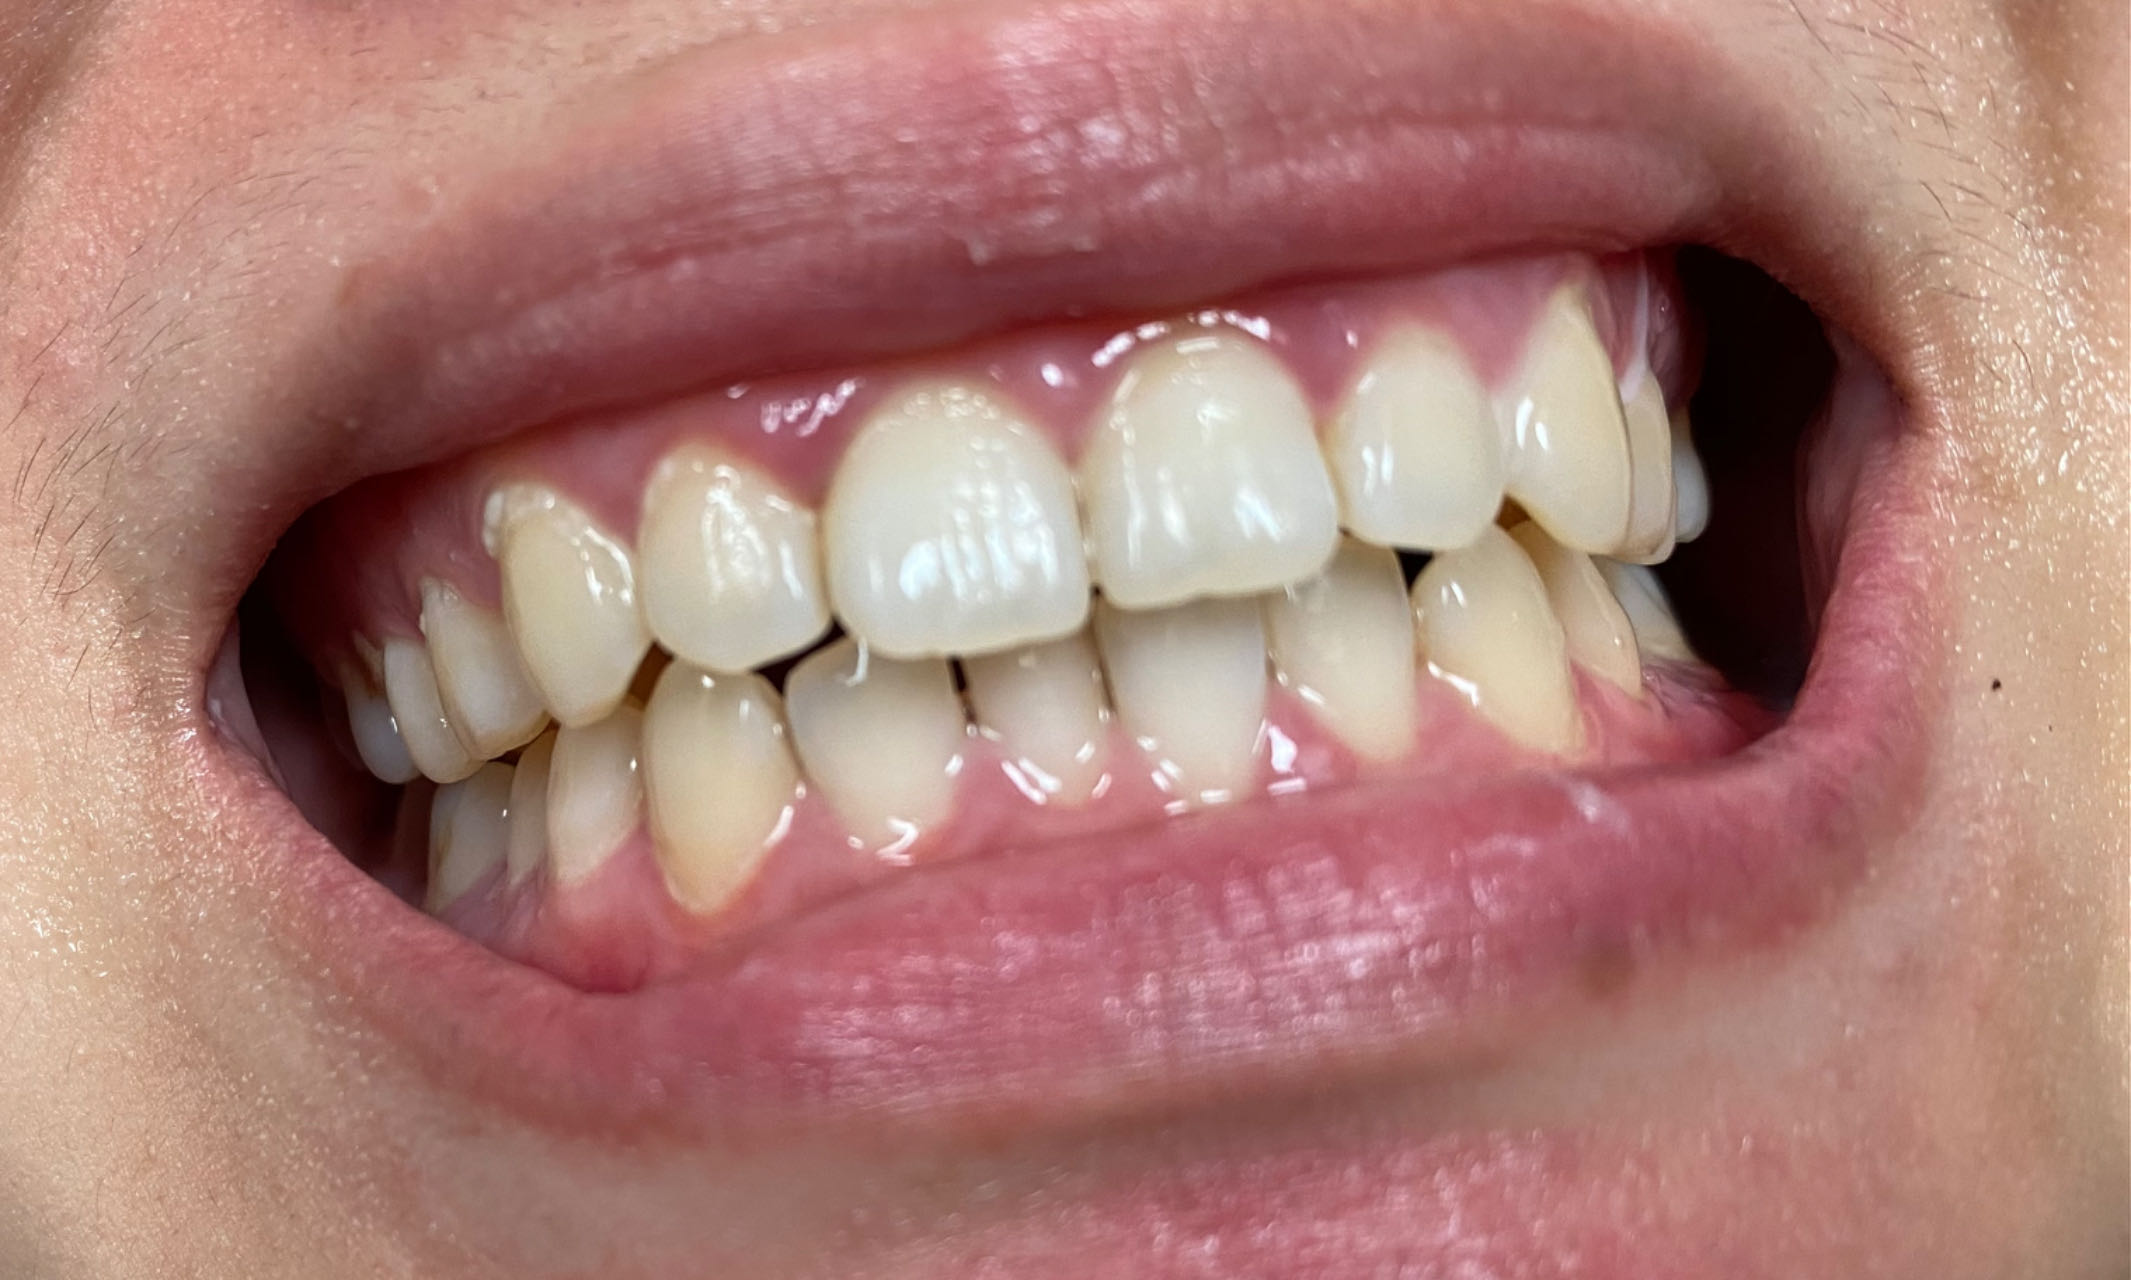teeth: (830, 373, 1088, 651), (1078, 329, 1341, 601), (642, 441, 823, 670), (642, 658, 799, 909), (1333, 321, 1504, 548), (1102, 594, 1276, 796), (792, 642, 968, 837), (1422, 525, 1577, 746), (498, 479, 636, 720), (1266, 531, 1419, 749), (1508, 286, 1630, 545), (965, 638, 1105, 794), (426, 600, 530, 750), (553, 708, 639, 881), (385, 645, 460, 781), (1624, 377, 1680, 556)
